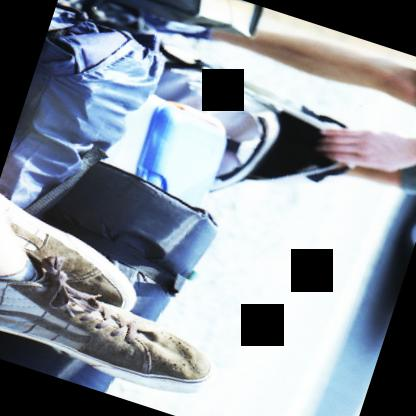backpack: (5, 22, 169, 217), (155, 53, 357, 194)
suitcase: (37, 162, 218, 317)
